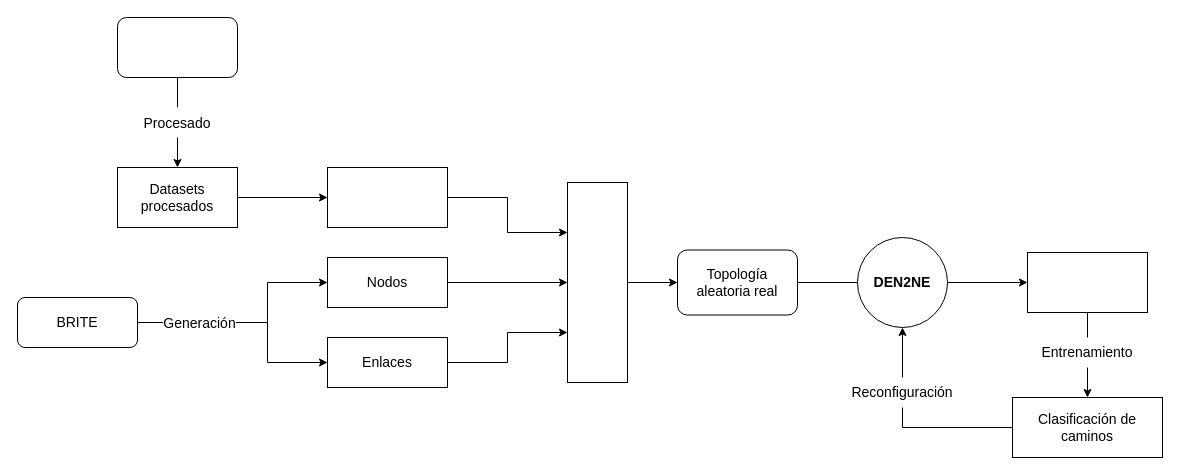
This 1180x475 diagram has some shape labels left out. The box of each missing label's shape, as (x1, y1, x2, y2) in pixels:
Datasets originales: (116, 16, 238, 78)
Definición de nodos reales: (326, 166, 448, 228)
P A R S E R: (566, 182, 628, 382)
Técnicas ML: (1026, 252, 1148, 312)
